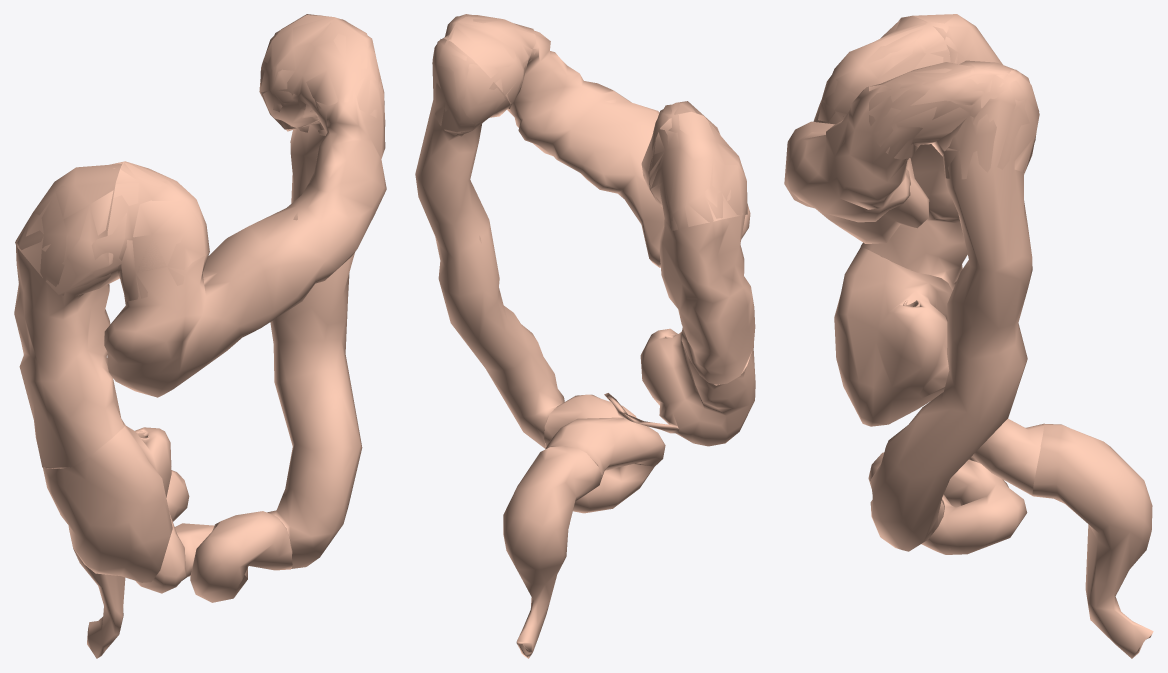
Rendered from sbu_m_intestine_large-20.fbx.
3 views of the same model, side by side, from view 1: azimuth 30°, elevation 25°; view 2: azimuth 150°, elevation 25°; view 3: azimuth 270°, elevation 25° (orthographic). The views are drawn at different scales.
Visible parts, largest first — view 1: VH_M_transverse_colon, VH_M_ascending_colon, VH_M_descending_colon, VH_M_caecum, VH_M_hepatic_flexure_of_colon, VH_M_sigmoid_colon, VH_M_splenic_flexure_of_colon, VH_M_rectum; view 2: VH_M_descending_colon, VH_M_transverse_colon, VH_M_ascending_colon, VH_M_rectum, VH_M_sigmoid_colon, VH_M_caecum, VH_M_splenic_flexure_of_colon, VH_M_hepatic_flexure_of_colon, VH_M_vermiform_appendix; view 3: VH_M_descending_colon, VH_M_transverse_colon, VH_M_caecum, VH_M_rectum, VH_M_sigmoid_colon, VH_M_splenic_flexure_of_colon, VH_M_ascending_colon, VH_M_hepatic_flexure_of_colon.
Boxes of the visible parts, box(x1,y1,x2,y2) form: VH_M_transverse_colon: box(104, 15, 386, 397); VH_M_ascending_colon: box(14, 163, 124, 468); VH_M_descending_colon: box(260, 20, 362, 568); VH_M_caecum: box(43, 419, 172, 582); VH_M_hepatic_flexure_of_colon: box(15, 161, 209, 301); VH_M_sigmoid_colon: box(136, 470, 292, 602); VH_M_splenic_flexure_of_colon: box(259, 14, 385, 135); VH_M_rectum: box(73, 548, 125, 658); VH_M_descending_colon: box(415, 39, 564, 448); VH_M_transverse_colon: box(444, 15, 750, 267); VH_M_ascending_colon: box(649, 111, 755, 384); VH_M_rectum: box(503, 446, 601, 658); VH_M_sigmoid_colon: box(544, 394, 665, 513); VH_M_caecum: box(640, 328, 755, 446); VH_M_splenic_flexure_of_colon: box(432, 14, 536, 136); VH_M_hepatic_flexure_of_colon: box(642, 101, 747, 230); VH_M_vermiform_appendix: box(604, 393, 679, 433); VH_M_descending_colon: box(870, 69, 1039, 551); VH_M_transverse_colon: box(784, 16, 1014, 243); VH_M_caecum: box(834, 247, 952, 426); VH_M_rectum: box(1032, 423, 1153, 658); VH_M_sigmoid_colon: box(868, 418, 1044, 554); VH_M_splenic_flexure_of_colon: box(869, 60, 1039, 179); VH_M_ascending_colon: box(860, 14, 1002, 290); VH_M_hepatic_flexure_of_colon: box(818, 14, 996, 121).
Size of the model in its own units: 25.98 by 45.1 by 22.5.
